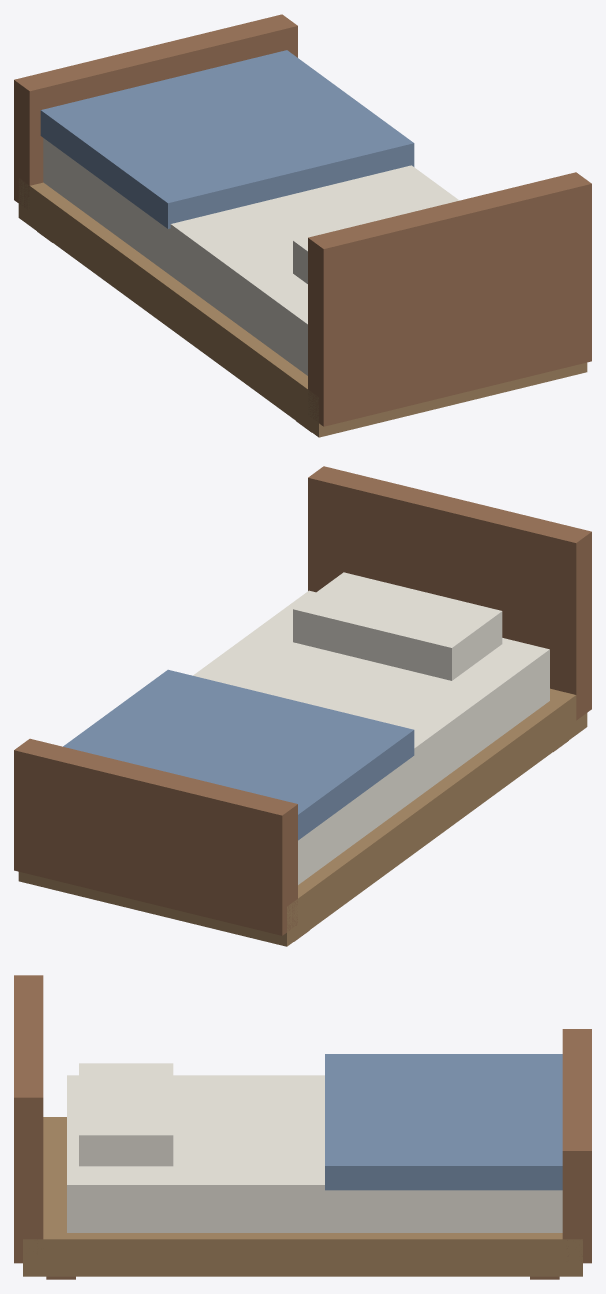
Rendered from bed.glb.
The picture shows the model from 3 angles, top to bottom: view 1: azimuth 30°, elevation 25°; view 2: azimuth 150°, elevation 25°; view 3: azimuth 270°, elevation 25°; orthographic projection. The views are drawn at different scales.
Parts seen in each view (by area): view 1: headboard, blanket, mattress, frame.016, footboard, pillow; view 2: footboard, headboard, mattress, blanket, frame.016, pillow; view 3: mattress, blanket, frame.016, pillow, headboard, footboard.
Boxes of the visible parts, box(x1,y1,x2,y2) form: headboard: box(308, 172, 591, 426); blanket: box(40, 50, 414, 228); mattress: box(43, 138, 459, 375); frame.016: box(18, 178, 587, 437); footboard: box(14, 14, 297, 209); pillow: box(293, 202, 451, 283); footboard: box(14, 738, 297, 935); headboard: box(308, 466, 591, 720); mattress: box(193, 590, 549, 884); blanket: box(63, 669, 414, 840); frame.016: box(18, 688, 587, 946); pillow: box(293, 572, 502, 680); mattress: box(67, 1075, 562, 1232); blanket: box(325, 1054, 562, 1190); frame.016: box(23, 1117, 582, 1276); pillow: box(79, 1063, 173, 1166); headboard: box(14, 975, 43, 1263); footboard: box(562, 1029, 591, 1263).
Size of the model in its own units: 0.98 by 0.69 by 1.96.
